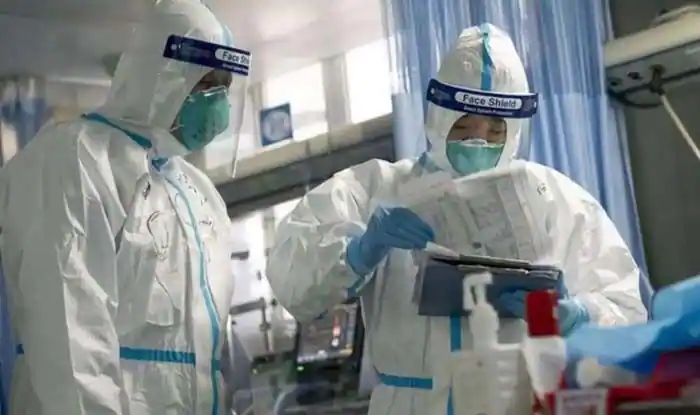Coverall: (263, 21, 659, 415), (1, 1, 252, 415)
Face_Shield: (161, 32, 255, 188), (423, 77, 541, 192)
Gloves: (342, 200, 442, 279), (497, 281, 597, 340)
with_mask: (177, 68, 235, 155), (444, 114, 508, 180)
